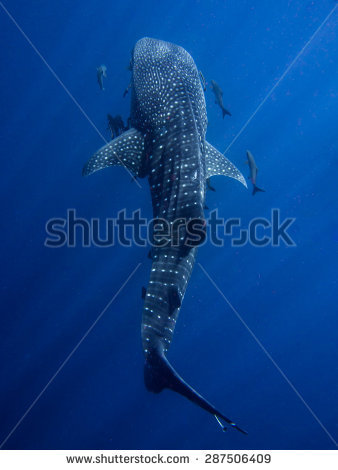Rhincodon_typusw: (90, 16, 293, 424)
